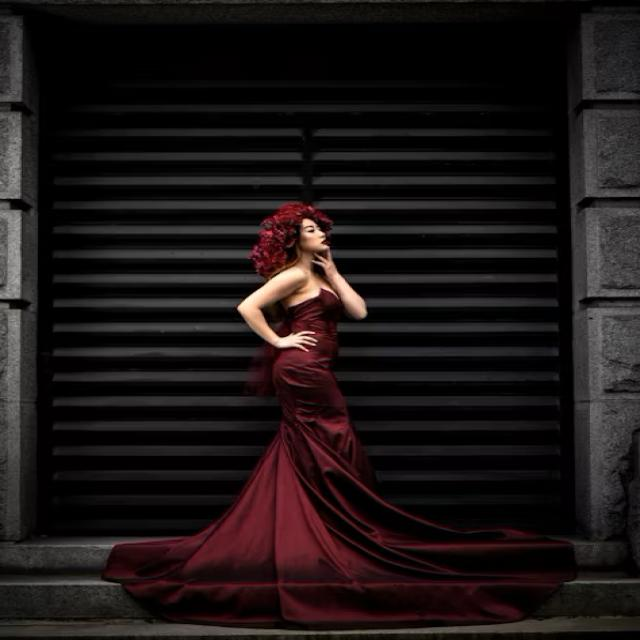Edited images: (219, 195, 459, 599)
